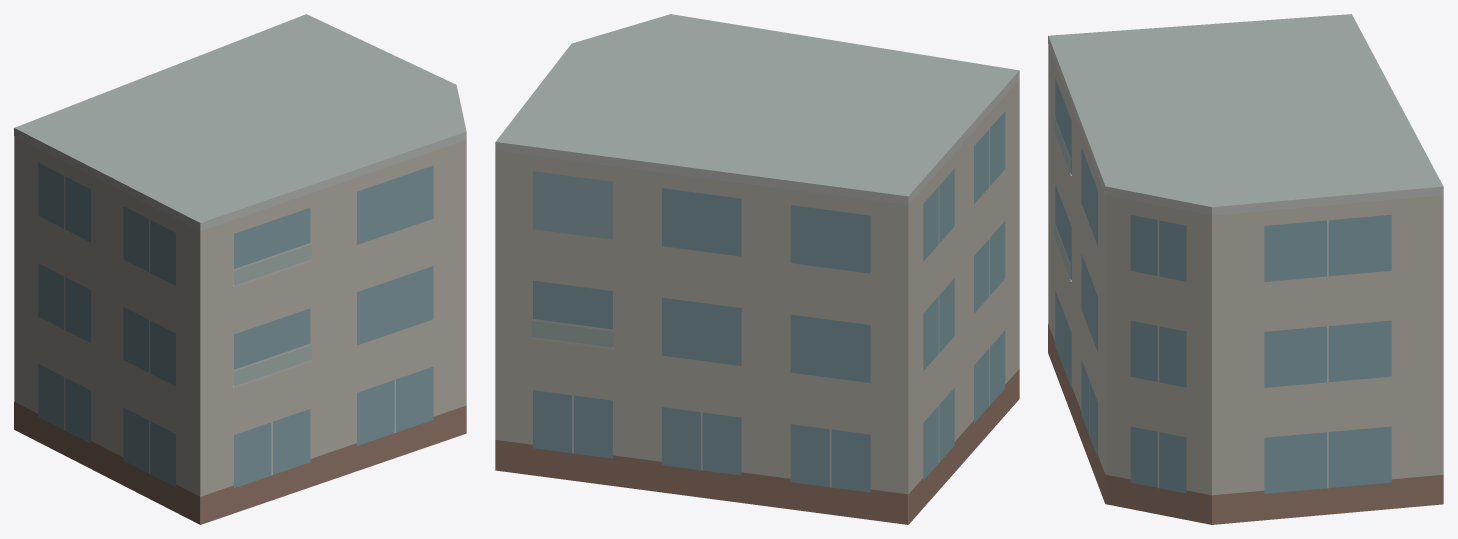
The model's file is survey-upis-32972817.glb.
3 views of the same model, side by side, from view 1: azimuth 30°, elevation 25°; view 2: azimuth 150°, elevation 25°; view 3: azimuth 270°, elevation 25° (orthographic). The views are drawn at different scales.
Visible parts, largest first — view 1: survey-upis-32972817.tmp; view 2: survey-upis-32972817.tmp; view 3: survey-upis-32972817.tmp.
Part boxes in pixels (x1,y1,x2,y2): survey-upis-32972817.tmp: [14, 14, 466, 524]; survey-upis-32972817.tmp: [495, 14, 1019, 524]; survey-upis-32972817.tmp: [1048, 14, 1443, 524].
Bounding box in the file's own units: 11.94 × 9.15 × 10.33.
